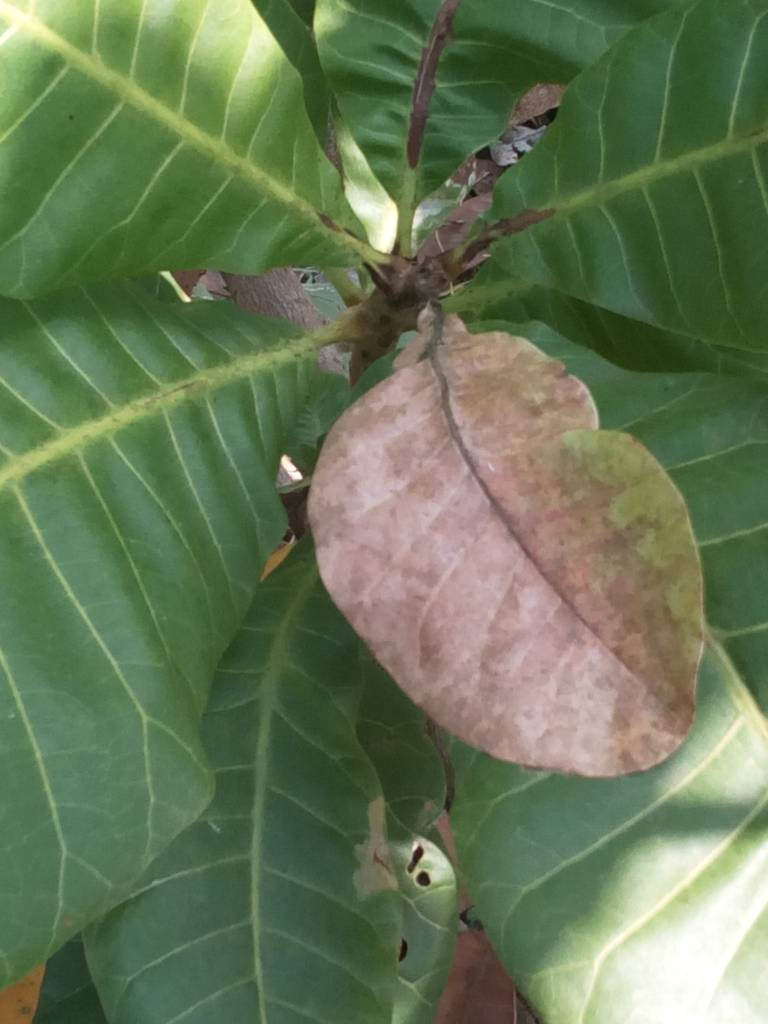Dessèchement des bourgeons: (354, 213, 504, 299)
